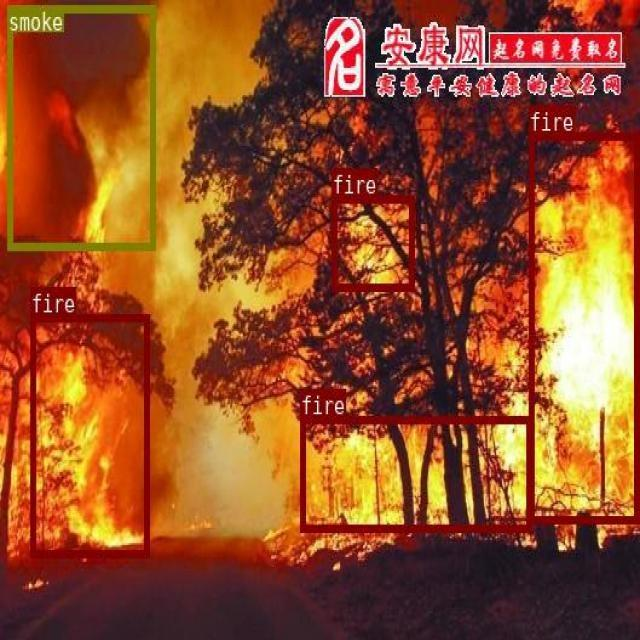fire: (528, 131, 638, 521), (30, 313, 148, 556), (299, 415, 530, 530), (331, 195, 414, 289)
smoke: (7, 5, 155, 249)
